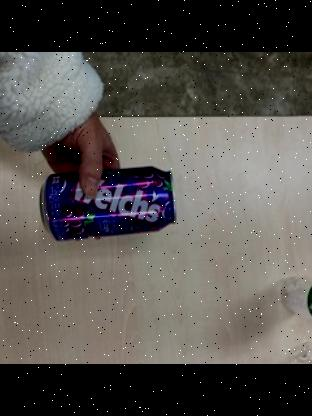Can: (33, 165, 177, 245)
